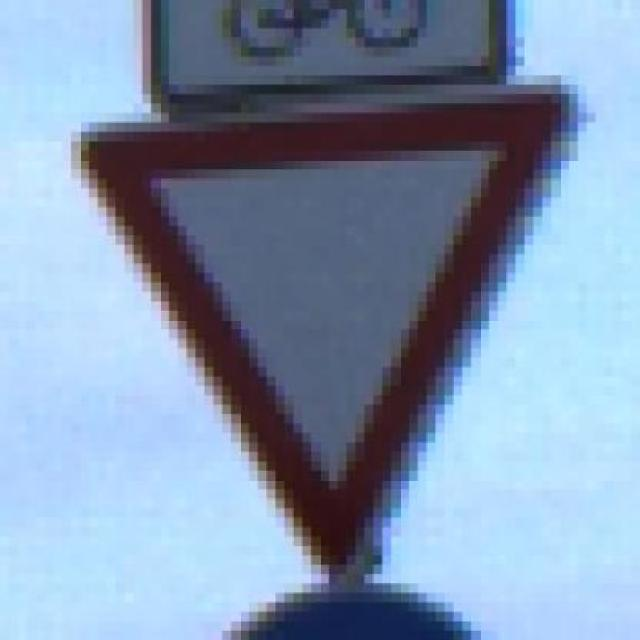Give Way: (35, 75, 631, 583)
